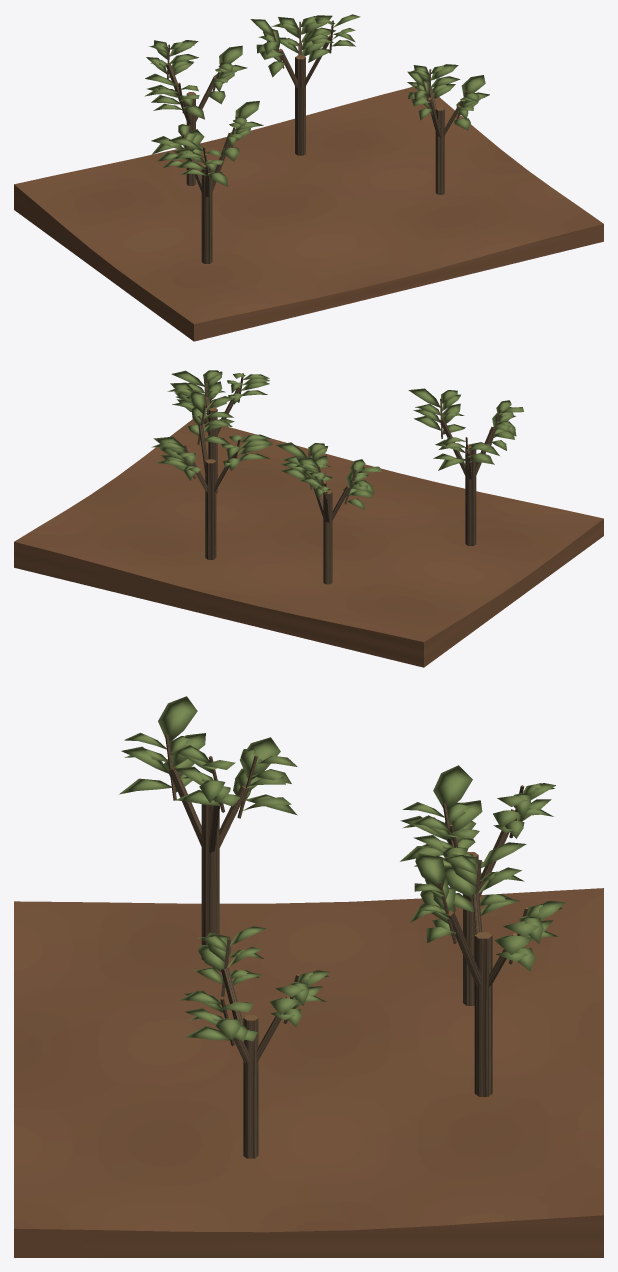
Rendered from cape-town.glb.
3 views of the same model, one above another, from view 1: azimuth 30°, elevation 25°; view 2: azimuth 150°, elevation 25°; view 3: azimuth 270°, elevation 25° (orthographic). The views are drawn at different scales.
Parts seen in each view (by area): view 1: cape-town; view 2: cape-town; view 3: cape-town.
Part boxes in pixels (<box>): cape-town: <box>14,14,603,341</box>; cape-town: <box>14,370,603,667</box>; cape-town: <box>14,696,603,1257</box>.
Bounding box in the file's own units: 6.67 × 2.6 × 5.07.
1 material, 1 textured.
